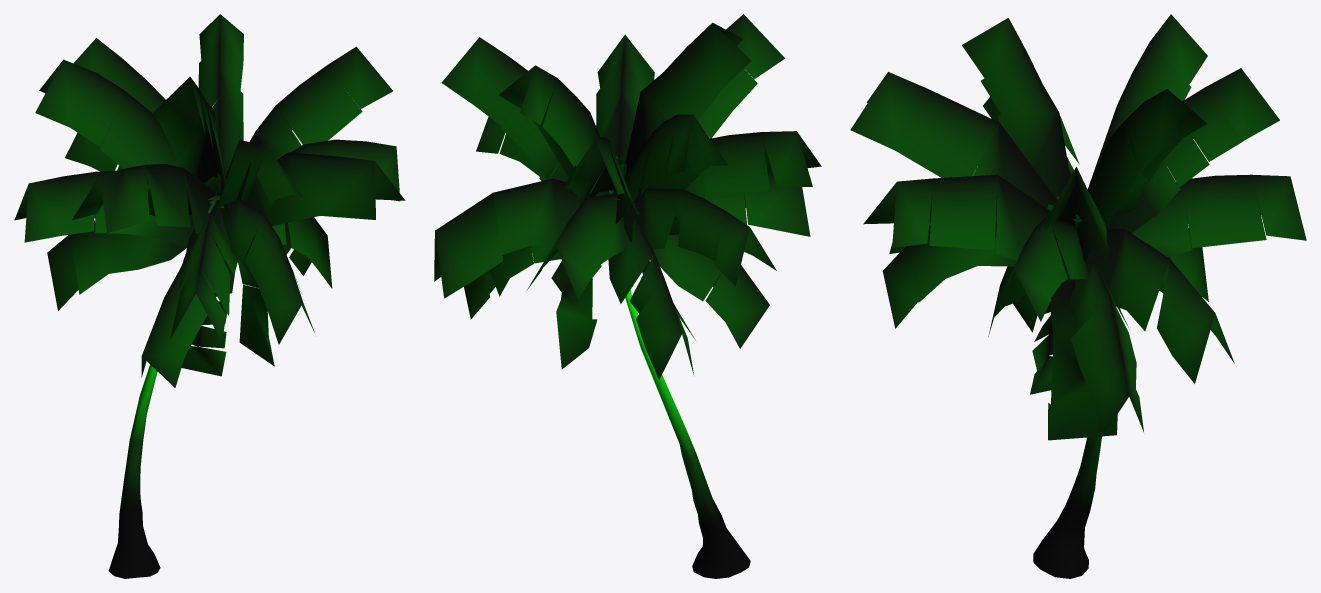
File: CoconutPalmTree01_afsTREE_xlprl10_xef99_uv2_xds10_xlod02.fbx
3 views of the same model, side by side, from view 1: azimuth 30°, elevation 25°; view 2: azimuth 150°, elevation 25°; view 3: azimuth 270°, elevation 25° (orthographic). The views are drawn at different scales.
Visible parts, largest first — view 1: branch_xw08_xt08_xlp05_xp02, branch_xw09_xt05_xlp05_xp07, branch_xw08_xt08_xlp05_xp09, branch_xw08_xt09_xlp06_xp06, branch_xw06_xt04_xlp03, branch_xw08_xt08_xlp06_xp10, branch_xw05_xt06_xlp04_xp04, branch_xw10_xt10_xlp08, branch_xw09_xt09_xlp05_xp07, branch_xw06_xt05_xlp04, trunk_xw06_xt05_xlp00, branch_xw05_xt06_xlp06_xp04 (+7 smaller); view 2: branch_xw07_xt06_xlp06_xp10, branch_xw09_xt09_xlp05_xp07, branch_xw08_xt08_xlp06_xp10, branch_xw08_xt08_xlp05_xp09, branch_xw09_xt05_xlp05_xp07, branch_xw06_xt04_xlp03, branch_xw08_xt08_xlp05_xp02, branch_xw10_xt10_xlp08, trunk_xw06_xt05_xlp00, branch_xw05_xt06_xlp06_xp04, branch_xw06_xt07_xlp04, branch_xw08_xt09_xlp06_xp06 (+6 smaller); view 3: branch_xw07_xt06_xlp04_xp05, branch_xw08_xt09_xlp06_xp06, branch_xw06_xt07_xlp04, branch_xw07_xt06_xlp06_xp10, branch_xw09_xt09_xlp05_xp07, branch_xw08_xt08_xlp05_xp10.001, branch_xw10_xt10_xlp08, branch_xw07_xt06_xlp03_xp09, branch_xw05_xt07_xlp03_xp03, branch_xw08_xt08_xlp05_xp02, branch_xw05_xt06_xlp04_xp04, branch_xw08_xt08_xlp05 (+5 smaller).
Boxes of the visible parts, x1,y1,x2,y2 form: branch_xw08_xt08_xlp05_xp02: (35,59,177,189); branch_xw09_xt05_xlp05_xp07: (249,46,392,248); branch_xw08_xt08_xlp05_xp09: (71,164,216,242); branch_xw08_xt09_xlp06_xp06: (216,152,405,246); branch_xw06_xt04_xlp03: (47,221,186,310); branch_xw08_xt08_xlp06_xp10: (14,170,194,246); branch_xw05_xt06_xlp04_xp04: (221,199,314,344); branch_xw10_xt10_xlp08: (198,14,243,166); branch_xw09_xt09_xlp05_xp07: (152,77,231,221); branch_xw06_xt05_xlp04: (170,200,238,341); trunk_xw06_xt05_xlp00: (108,364,160,578); branch_xw05_xt06_xlp06_xp04: (141,233,225,387); branch_xw07_xt06_xlp06_xp10: (434,179,590,298); branch_xw09_xt09_xlp05_xp07: (624,22,751,178); branch_xw08_xt08_xlp06_xp10: (623,188,776,285); branch_xw08_xt08_xlp05_xp09: (673,131,821,220); branch_xw09_xt05_xlp05_xp07: (441,37,568,181); branch_xw06_xt04_xlp03: (608,216,695,379); branch_xw08_xt08_xlp05_xp02: (615,114,727,223); branch_xw10_xt10_xlp08: (498,65,617,196); trunk_xw06_xt05_xlp00: (625,290,750,578); branch_xw05_xt06_xlp06_xp04: (652,234,769,348); branch_xw06_xt07_xlp04: (527,194,629,299); branch_xw08_xt09_xlp06_xp06: (596,34,654,161); branch_xw07_xt06_xlp04_xp05: (850,72,1057,208); branch_xw08_xt09_xlp06_xp06: (863,174,1072,281); branch_xw06_xt07_xlp04: (1132,174,1306,257); branch_xw07_xt06_xlp06_xp10: (1084,228,1234,383); branch_xw09_xt09_xlp05_xp07: (962,18,1070,198); branch_xw08_xt08_xlp05_xp10.001: (1106,68,1279,233); branch_xw10_xt10_xlp08: (1076,89,1206,261); branch_xw07_xt06_xlp03_xp09: (1069,259,1143,439); branch_xw05_xt07_xlp03_xp03: (1048,279,1117,440); branch_xw08_xt08_xlp05_xp02: (1087,14,1207,189); branch_xw05_xt06_xlp04_xp04: (882,225,1016,328); branch_xw08_xt08_xlp05: (995,215,1089,321).
Size of what is drawn, in the model's own units: 10.81 by 11.44 by 15.65.
